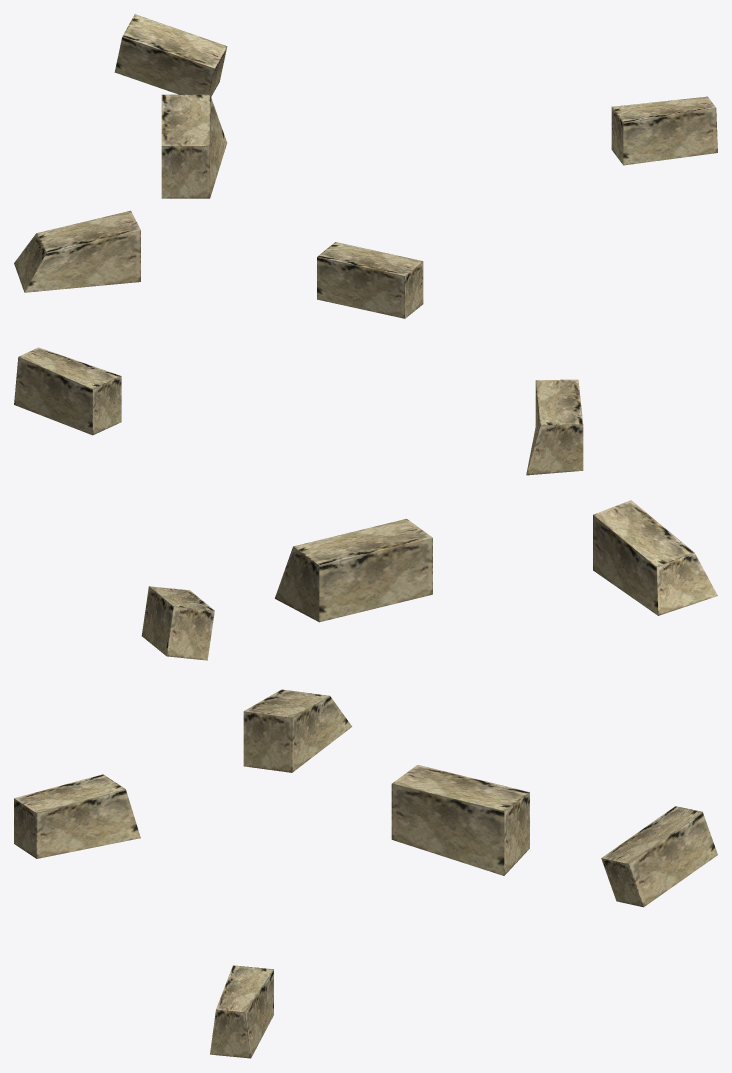
File: M12_Rubble01.glb
3 views of the same model, one above another, from view 1: azimuth 30°, elevation 25°; view 2: azimuth 150°, elevation 25°; view 3: azimuth 270°, elevation 25° (orthographic). The views are drawn at different scales.
Parts seen in each view (by area): view 1: M12_RUBBLE01; view 2: M12_RUBBLE01; view 3: M12_RUBBLE01.
Part boxes in pixels (x1=…): M12_RUBBLE01: x1=14, y1=14, x2=717, y2=318; M12_RUBBLE01: x1=14, y1=347, x2=717, y2=660; M12_RUBBLE01: x1=14, y1=689, x2=717, y2=1058.
Bounding box in the file's own units: 2.86 × 0.28 × 2.45.
1 material, 1 textured.
